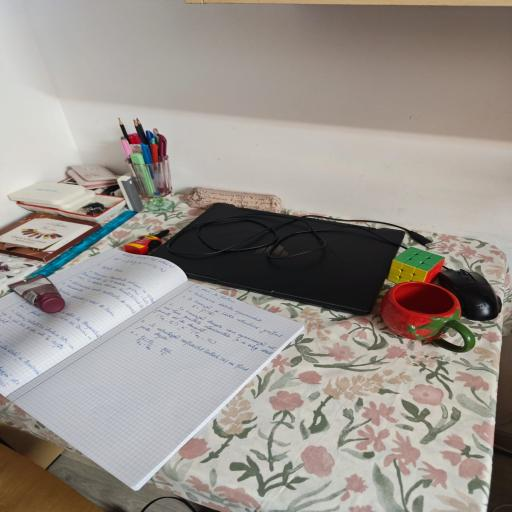Crema Maini: (6, 273, 64, 315)
Rubiks Cube: (383, 248, 441, 282)
Super Glue: (125, 228, 170, 253)
